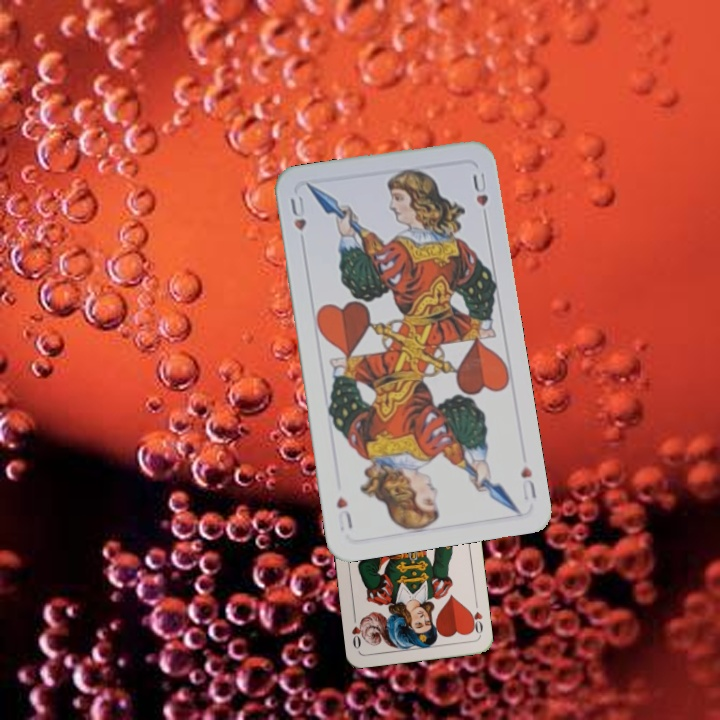HO: (465, 597, 485, 638)
HU: (286, 192, 309, 234), (516, 462, 539, 503)
